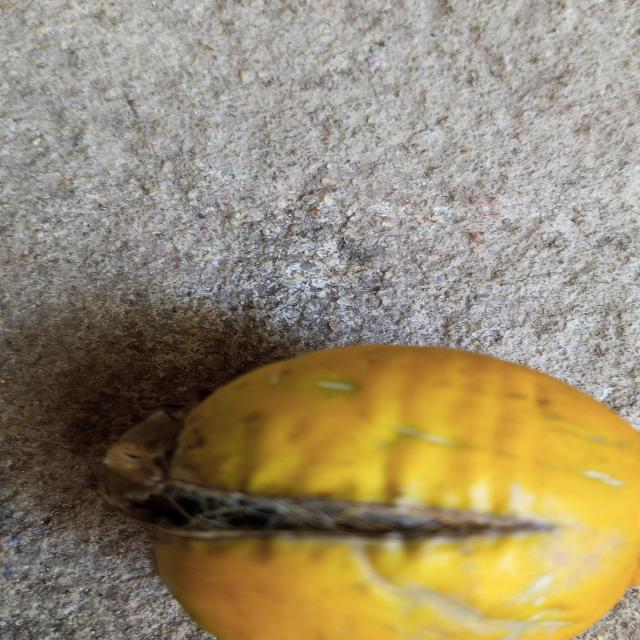damaged: (101, 344, 640, 640)
